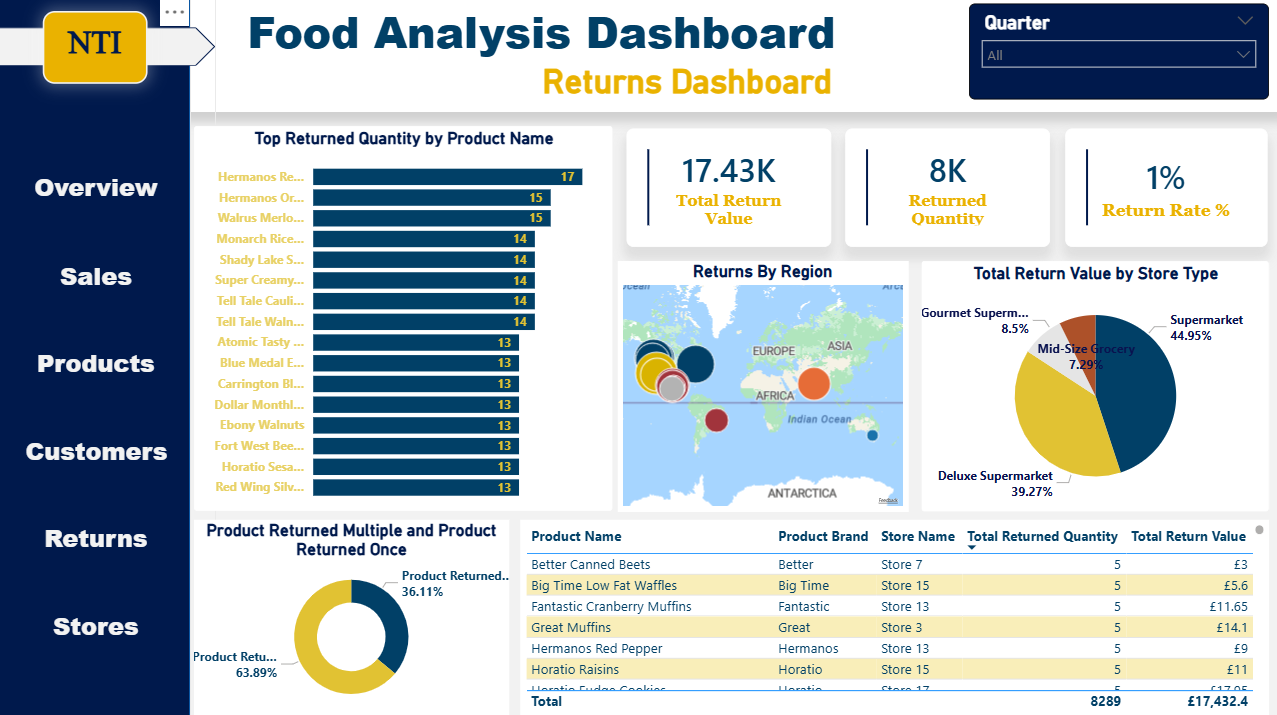

The page's visual inventory and layout, read from the dashboard file:
{"tool":"powerbi","page":{"name":"Returns","canvas":[1280,720],"ordinal":6},"visuals":[{"type":"shape","box":[0,0,191.2,720],"z":0,"group":"g1"},{"type":"textbox","box":[1.2,0,1278.8,116.2],"z":0},{"type":"group","id":"g1","title":"Group 1","box":[0,0,216.2,720],"z":1000},{"type":"shape","box":[0,31.2,216.2,38.8],"z":1000,"group":"g1"},{"type":"slicer","fields":{"Values":["Calendar.date.Variation.Date Hierarchy.Quarter"]},"box":[970,7.5,300,96.2],"z":2000},{"type":"textbox","box":[43.8,15,105,72.5],"z":2000,"group":"g1"},{"type":"cardVisual","fields":{"Data":["Returns.Total Returned Quantity"]},"box":[845.7,132.7,205,118.8],"z":3000},{"type":"actionButton","title":"Overview","box":[30.2,149.3,133.8,83.8],"z":3000,"group":"g1"},{"type":"cardVisual","fields":{"Data":["Returns.Return Rate %"]},"box":[1066.2,132.7,202.5,118.8],"z":4000},{"type":"actionButton","title":"Overview","box":[30.2,237,133.8,83.8],"z":4000,"group":"g1"},{"type":"cardVisual","fields":{"Data":["Returns.Total Return Value"]},"box":[627.5,132.5,205,118.8],"z":5000},{"type":"actionButton","title":"Overview","box":[30.2,324.8,133.8,83.8],"z":5000,"group":"g1"},{"type":"actionButton","title":"Overview","box":[19.6,412.5,155,83.8],"z":6000,"group":"g1"},{"type":"tableEx","fields":{"Values":["Products.Product Name","Products.Product Brand","Stores.Store Name","Returns.Total Returned Quantity","Returns.Total Return Value"]},"box":[521.2,523.8,748.8,196.2],"z":6000},{"type":"clusteredBarChart","title":"Top Returned Quantity by Product Name","fields":{"Category":["Products.Product Name"],"Y":["Returns.Total Returned Quantity"]},"box":[195,130,418.8,385],"z":7000},{"type":"actionButton","title":"Overview","box":[30.2,500.3,133.8,83.8],"z":7000,"group":"g1"},{"type":"donutChart","fields":{"Y":["Returns.Product Returned Multiple","Returns.Product Returned Once"]},"box":[195,523.8,315,196.2],"z":8000},{"type":"actionButton","title":"Overview","box":[30.2,588,133.8,83.8],"z":8000,"group":"g1"},{"type":"azureMap","title":"Returns By Region","fields":{"Size":["Returns.Total Return Value"],"Category":["Region.Sales District"],"Series":["Region.Sales Region"]},"box":[618.8,265,290,250],"z":9000},{"type":"pieChart","fields":{"Category":["Stores.Store Type"],"Y":["Returns.Total Return Value"]},"box":[922.5,265,347.5,250],"z":10000}]}

Visuals, with their boxes in screenshot pixels (x1, y1, x2, y2), scaled from the page's 1280x720 canvas onto the 1277x715 screenshot:
shape: box(0, 0, 191, 714)
textbox: box(1, 0, 1276, 115)
"Group 1" group: box(0, 0, 216, 714)
shape: box(0, 31, 216, 70)
slicer - Calendar.date.Variation.Date Hierarchy.Quarter: box(968, 7, 1267, 103)
textbox: box(44, 15, 148, 87)
cardVisual - Returns.Total Returned Quantity: box(844, 132, 1048, 250)
"Overview" actionButton: box(30, 148, 164, 231)
cardVisual - Returns.Return Rate %: box(1064, 132, 1266, 250)
"Overview" actionButton: box(30, 235, 164, 319)
cardVisual - Returns.Total Return Value: box(626, 132, 831, 250)
"Overview" actionButton: box(30, 323, 164, 406)
"Overview" actionButton: box(20, 410, 174, 493)
tableEx - Products.Product Name x Products.Product Brand: box(520, 520, 1267, 714)
"Top Returned Quantity by Product Name" clusteredBarChart: box(195, 129, 612, 511)
"Overview" actionButton: box(30, 497, 164, 580)
donutChart - Returns.Product Returned Multiple x Returns.Product Returned Once: box(195, 520, 509, 714)
"Overview" actionButton: box(30, 584, 164, 667)
"Returns By Region" azureMap: box(617, 263, 907, 511)
pieChart - Stores.Store Type x Returns.Total Return Value: box(920, 263, 1267, 511)
